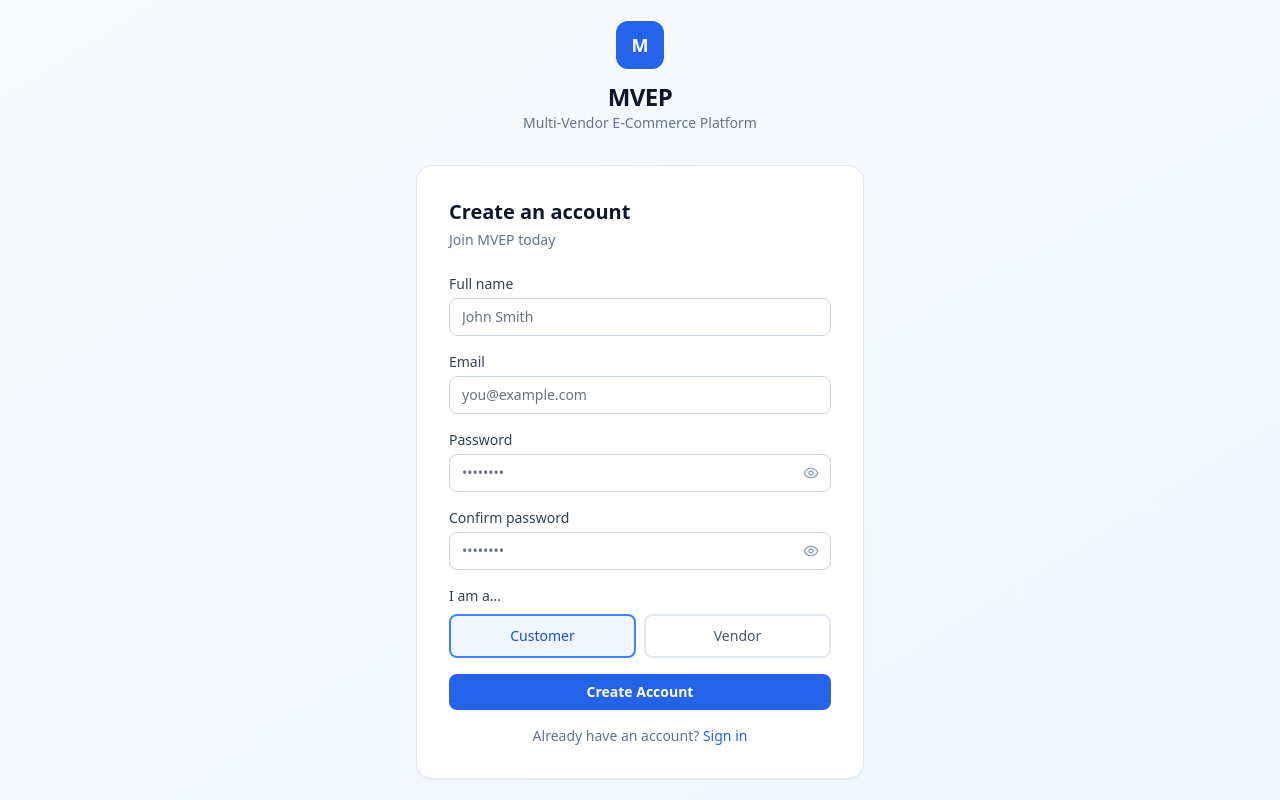
RegisterPage › shows "Email already in use" error on duplicate email
The image size is (1280, 800).
Type "New User" into the field with placeholder "John Smith" at (640, 317), box x1=449 y1=298 x2=831 y2=336
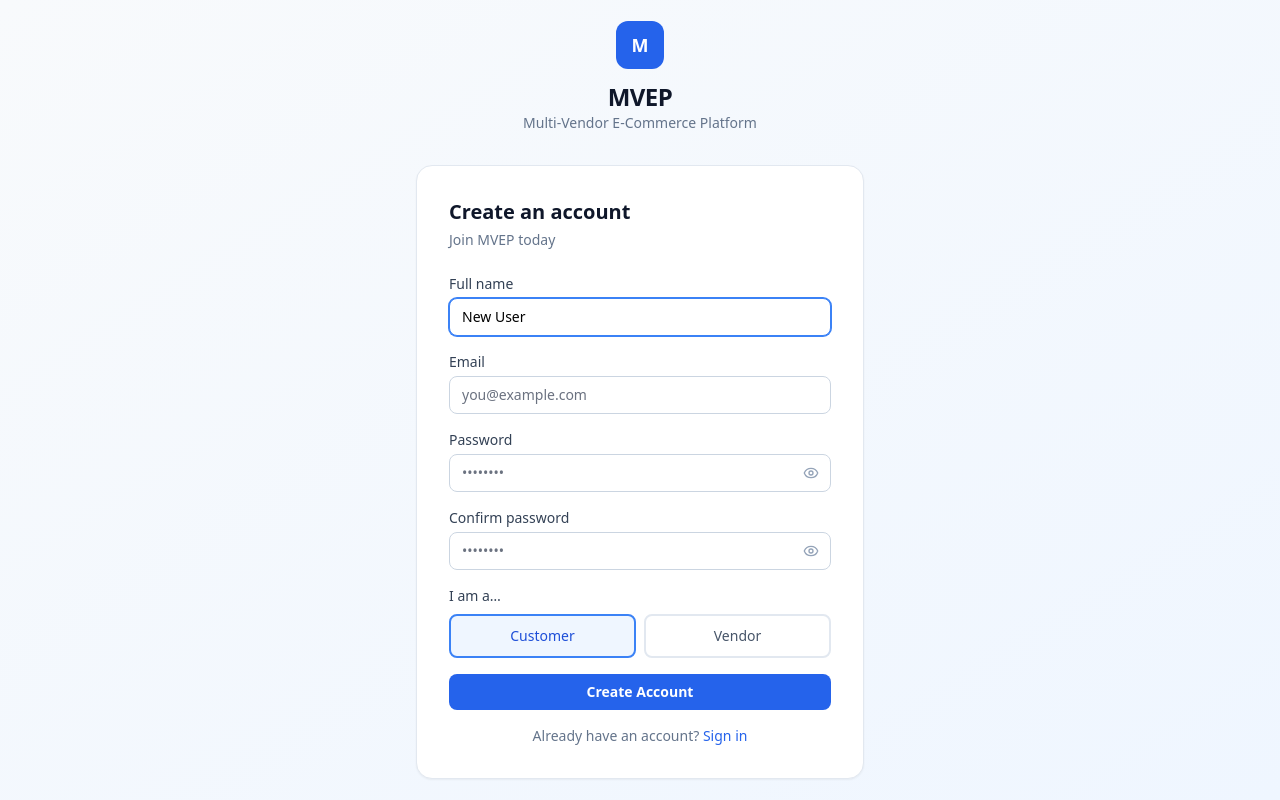
Type "customer@mvep.dev" into the field with placeholder "you@example.com" at (640, 395), box x1=449 y1=376 x2=831 y2=414
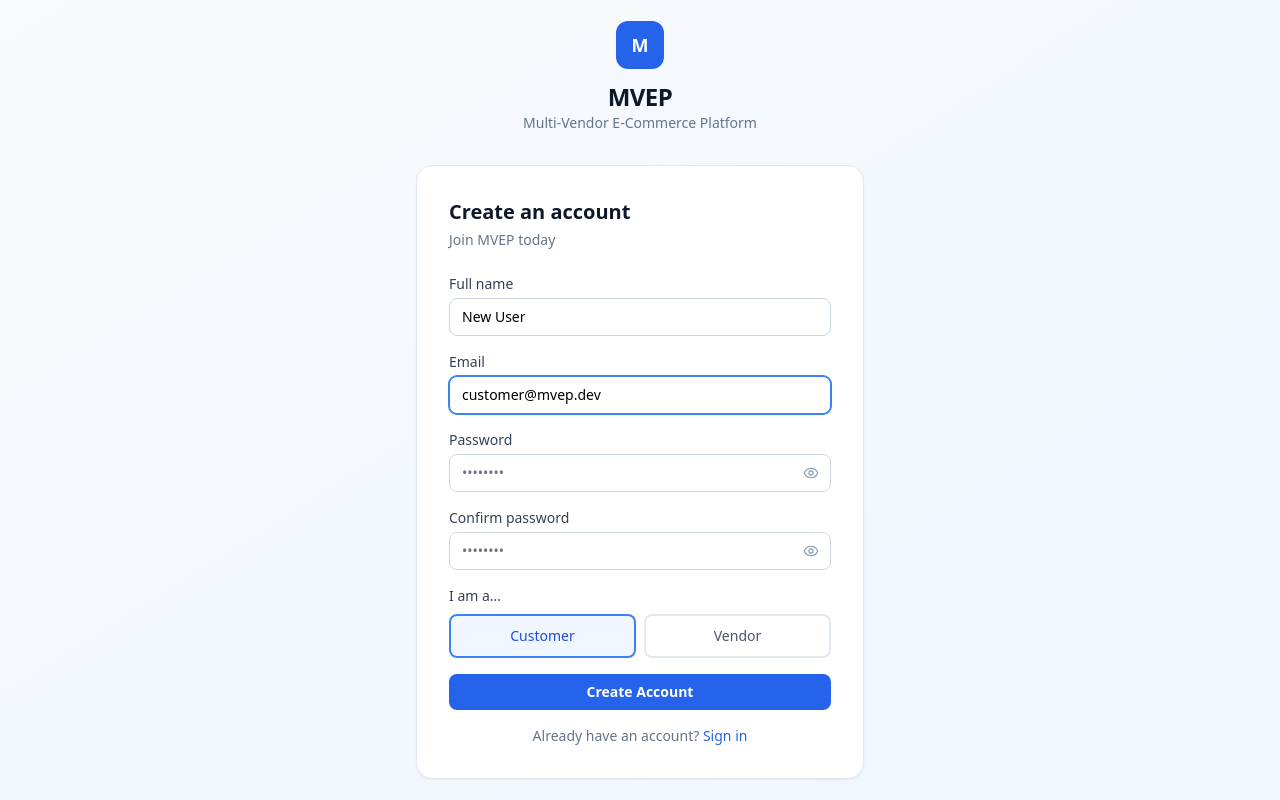
Type "password123" into the 1st password field with placeholder "••••••••" at (640, 473), box x1=449 y1=454 x2=831 y2=492
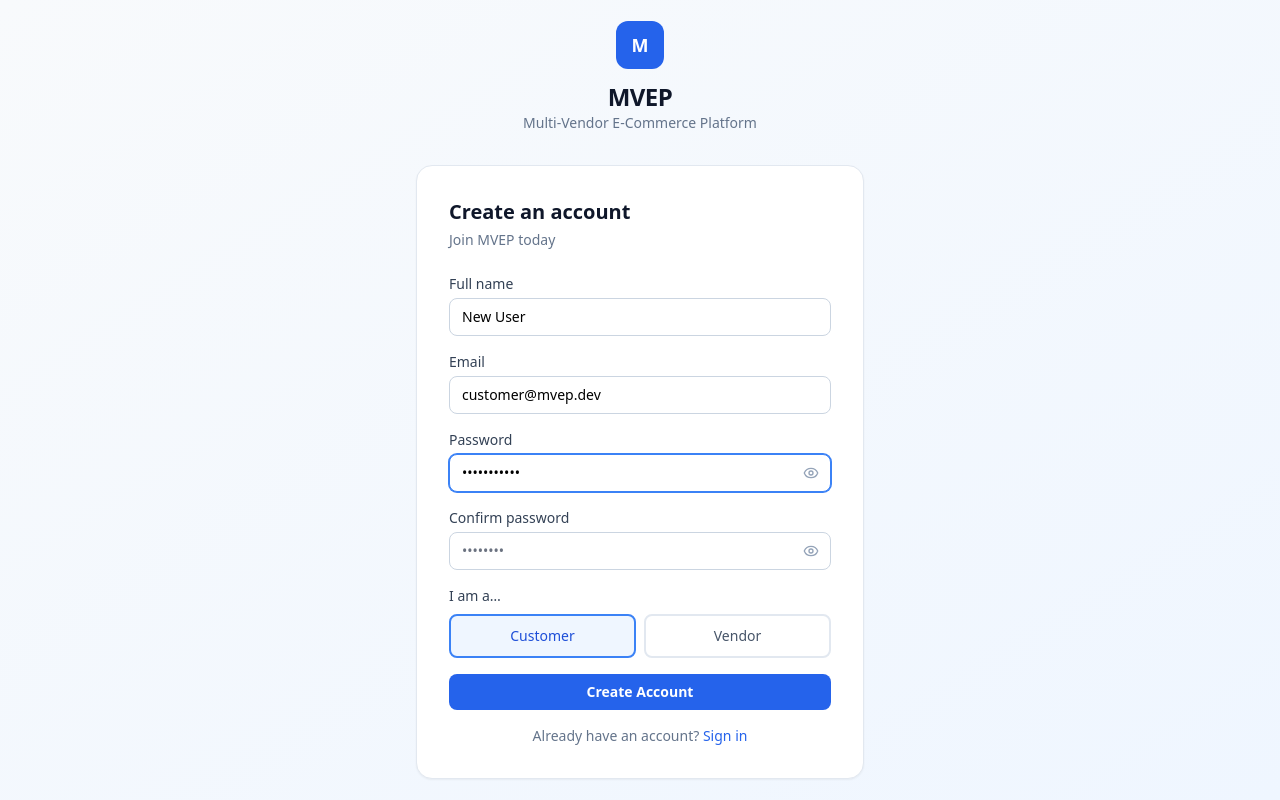
Type "password123" into the password field with placeholder "••••••••" at (640, 551), box x1=449 y1=532 x2=831 y2=570
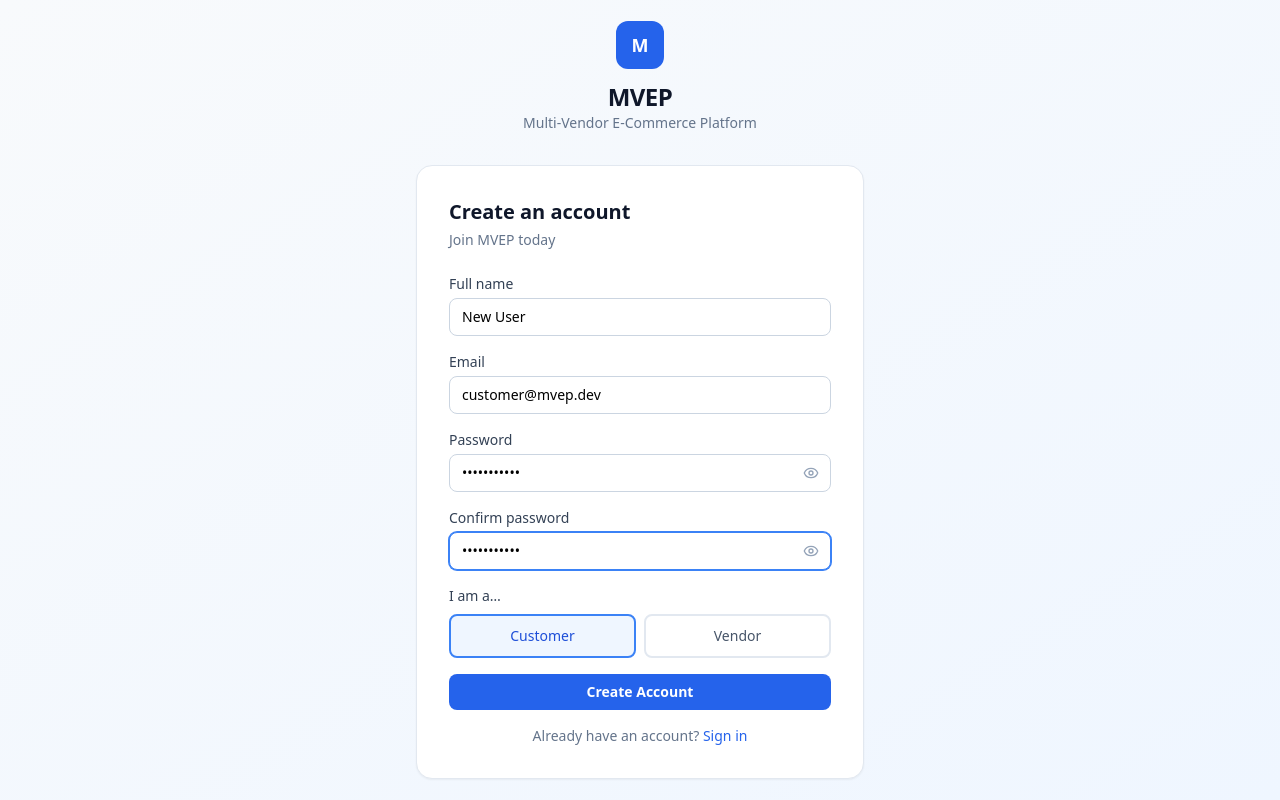
Click the button "Create Account" at (640, 692), box x1=449 y1=674 x2=831 y2=710
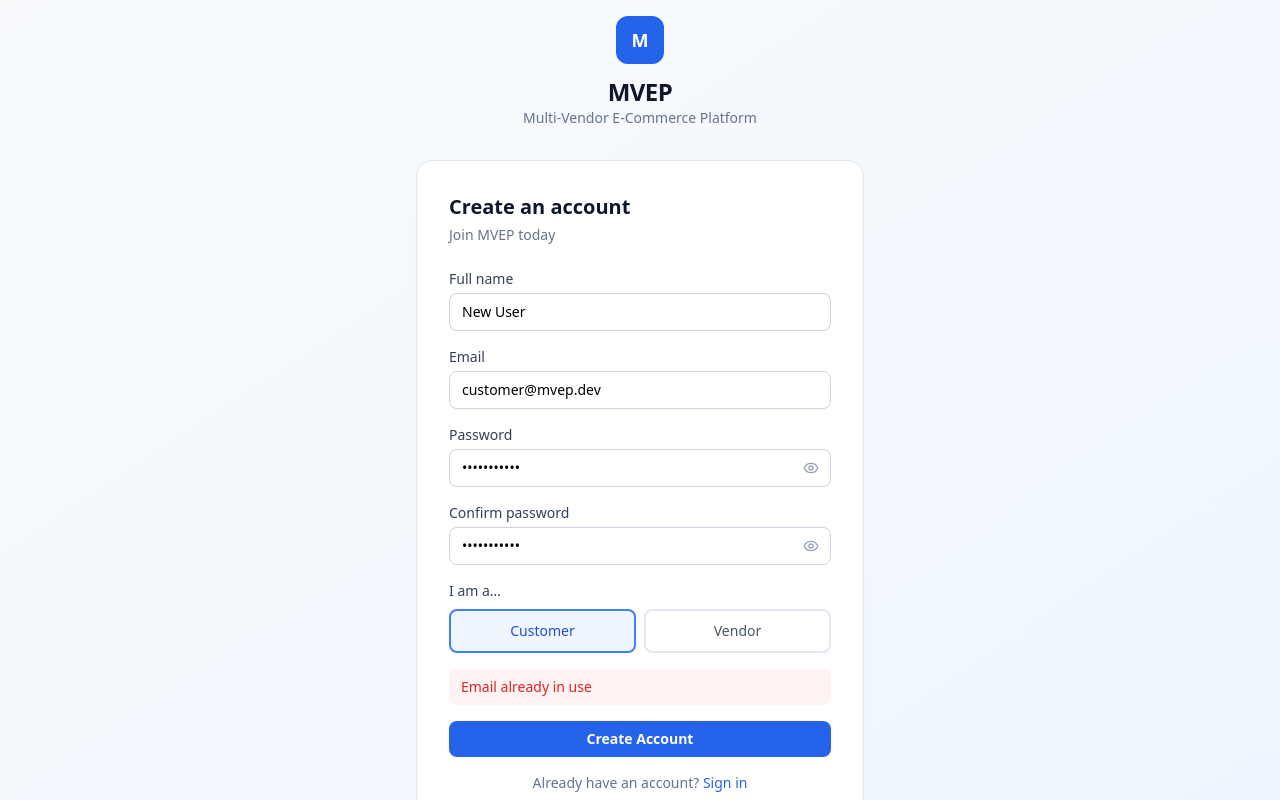
expect the text "Email already in use" is shown: met, box x1=449 y1=669 x2=831 y2=705
